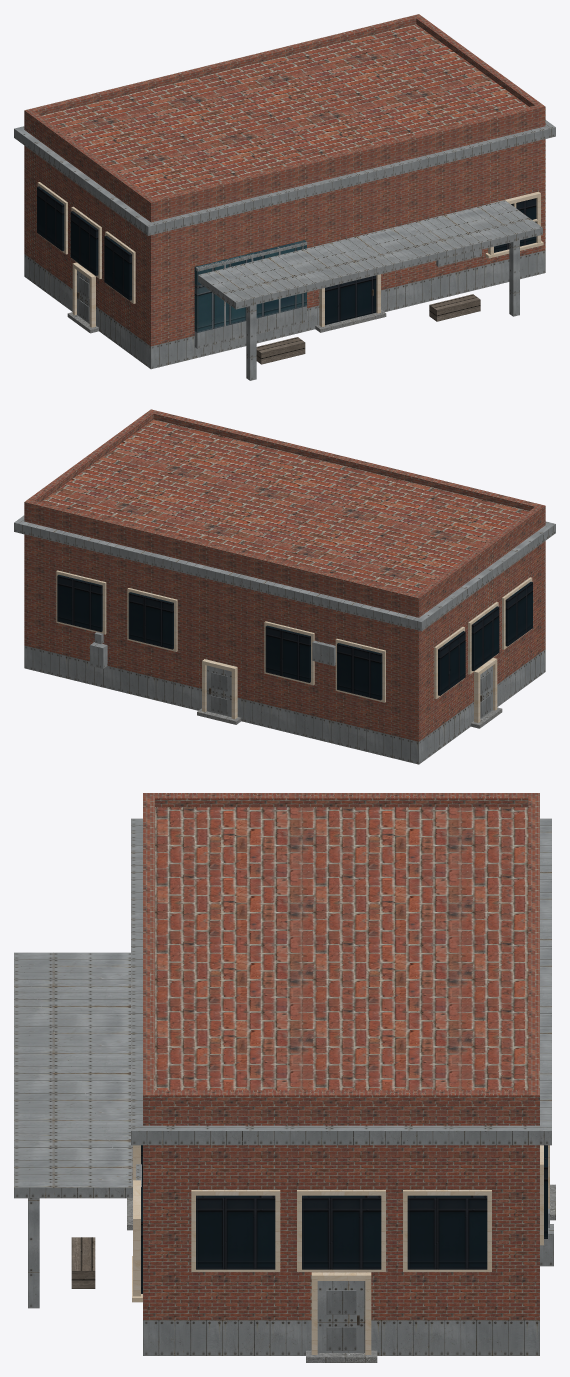
File: ferry-waiting-room_lod0.gltf
3 renders of one model, top to bottom at view 1: azimuth 30°, elevation 25°; view 2: azimuth 150°, elevation 25°; view 3: azimuth 270°, elevation 25°, orthographic. The views are drawn at different scales.
Visible parts, largest first — view 1: ferry-waiting-room_upper, ferry-waiting-room__canopy, ferry-waiting-room_base, ferry-waiting-room__cornice, ferry-waiting-room_fen_07-glass-curtain-blue_3_t, ferry-waiting-room__parapet_front, ferry-waiting-room__parapet_back, ferry-waiting-room_fen_07-glass-curtain-blue_1, ferry-waiting-room_fen_04-limestone_2, ferry-waiting-room_fen_14-steel-panel_0, ferry-waiting-room__parapet_left, ferry-waiting-room__parapet_right (+5 smaller); view 2: ferry-waiting-room_upper, ferry-waiting-room_fen_07-glass-curtain-blue_3_t, ferry-waiting-room_base, ferry-waiting-room__cornice, ferry-waiting-room_fen_04-limestone_2, ferry-waiting-room__parapet_back, ferry-waiting-room__parapet_front, ferry-waiting-room_fen_14-steel-panel_0, ferry-waiting-room__parapet_left, ferry-waiting-room__parapet_right, ferry-waiting-room_fen_14-steel-panel_6_t, ferry-waiting-room_fen_06-granite_5; view 3: ferry-waiting-room_upper, ferry-waiting-room__canopy, ferry-waiting-room_fen_07-glass-curtain-blue_3_t, ferry-waiting-room__cornice, ferry-waiting-room_base, ferry-waiting-room_fen_04-limestone_2, ferry-waiting-room__parapet_left, ferry-waiting-room__parapet_right, ferry-waiting-room__parapet_front, ferry-waiting-room__parapet_back, ferry-waiting-room_fen_14-steel-panel_0, ferry-waiting-room_fen_14-steel-panel_6_t (+3 smaller).
Boxes of the visible parts, box(x1,y1,x2,y2) form: ferry-waiting-room_upper: box(24, 24, 545, 346); ferry-waiting-room__canopy: box(198, 200, 542, 309); ferry-waiting-room_base: box(24, 250, 545, 369); ferry-waiting-room__cornice: box(14, 120, 555, 235); ferry-waiting-room_fen_07-glass-curtain-blue_3_t: box(37, 186, 536, 324); ferry-waiting-room__parapet_front: box(147, 104, 545, 208); ferry-waiting-room__parapet_back: box(24, 14, 422, 118); ferry-waiting-room_fen_07-glass-curtain-blue_1: box(194, 240, 306, 332); ferry-waiting-room_fen_04-limestone_2: box(37, 182, 543, 327); ferry-waiting-room_fen_14-steel-panel_0: box(77, 242, 307, 348); ferry-waiting-room__parapet_left: box(28, 111, 153, 205); ferry-waiting-room__parapet_right: box(416, 17, 541, 106); ferry-waiting-room_upper: box(24, 419, 545, 741); ferry-waiting-room_fen_07-glass-curtain-blue_3_t: box(57, 575, 532, 700); ferry-waiting-room_base: box(24, 645, 545, 764); ferry-waiting-room__cornice: box(14, 515, 555, 631); ferry-waiting-room_fen_04-limestone_2: box(56, 570, 532, 722); ferry-waiting-room__parapet_back: box(24, 499, 422, 603); ferry-waiting-room__parapet_front: box(147, 409, 545, 513); ferry-waiting-room_fen_14-steel-panel_0: box(90, 632, 492, 718); ferry-waiting-room__parapet_left: box(416, 507, 541, 600); ferry-waiting-room__parapet_right: box(28, 412, 153, 501); ferry-waiting-room_fen_14-steel-panel_6_t: box(211, 672, 490, 717); ferry-waiting-room_fen_06-granite_5: box(197, 707, 502, 728); ferry-waiting-room_upper: box(143, 807, 539, 1319); ferry-waiting-room__canopy: box(14, 952, 132, 1198); ferry-waiting-room_fen_07-glass-curtain-blue_3_t: box(141, 1145, 547, 1293); ferry-waiting-room__cornice: box(131, 818, 551, 1145); ferry-waiting-room_base: box(143, 1320, 539, 1355); ferry-waiting-room_fen_04-limestone_2: box(132, 1145, 549, 1354); ferry-waiting-room__parapet_left: box(155, 793, 528, 807); ferry-waiting-room__parapet_right: box(155, 1090, 528, 1104); ferry-waiting-room__parapet_front: box(143, 793, 154, 1104); ferry-waiting-room__parapet_back: box(528, 793, 539, 1104); ferry-waiting-room_fen_14-steel-panel_0: box(317, 1208, 553, 1352); ferry-waiting-room_fen_14-steel-panel_6_t: box(326, 1290, 356, 1350).
Size of the model in its own units: 18.8 by 7.25 by 13.65.
